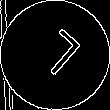L_SW: (27, 26, 83, 84)
